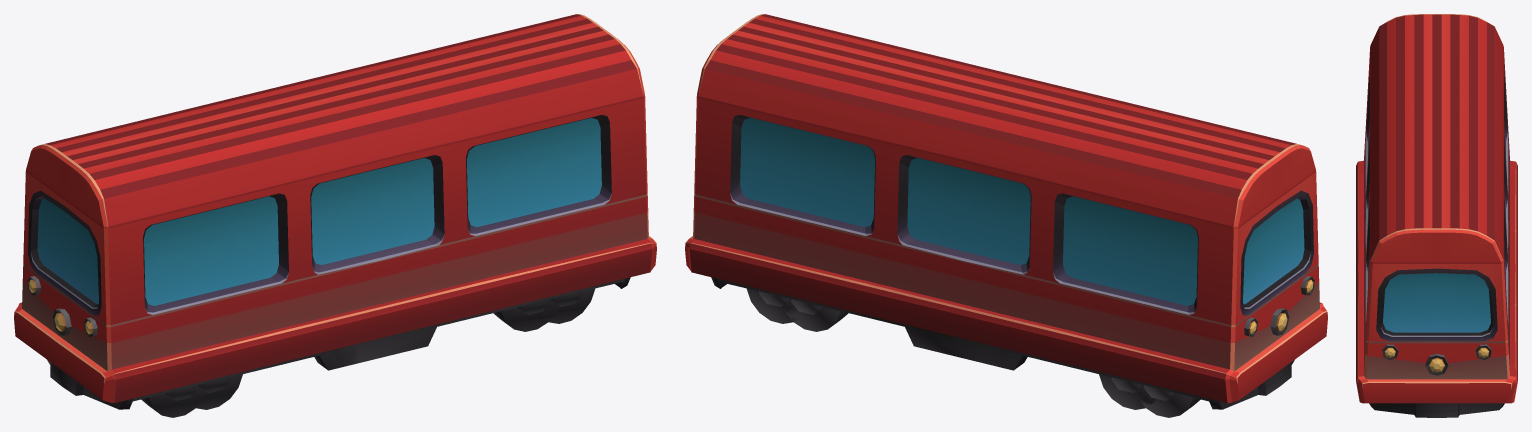
File: Train_5.fbx
The picture shows the model from 3 angles, left to right: view 1: azimuth 30°, elevation 25°; view 2: azimuth 150°, elevation 25°; view 3: azimuth 270°, elevation 25°; orthographic projection. The views are drawn at different scales.
Parts seen in each view (by area): view 1: Train_5; view 2: Train_5; view 3: Train_5.
Boxes of the visible parts, bbox=[...] form: Train_5: bbox=[14, 14, 656, 417]; Train_5: bbox=[685, 14, 1327, 417]; Train_5: bbox=[1356, 14, 1517, 417].
Bounding box in the file's own units: 692 × 296 × 212.
